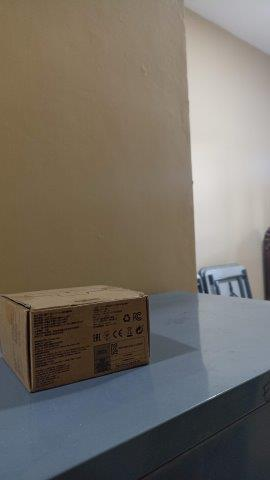kardus: (1, 284, 150, 391)
